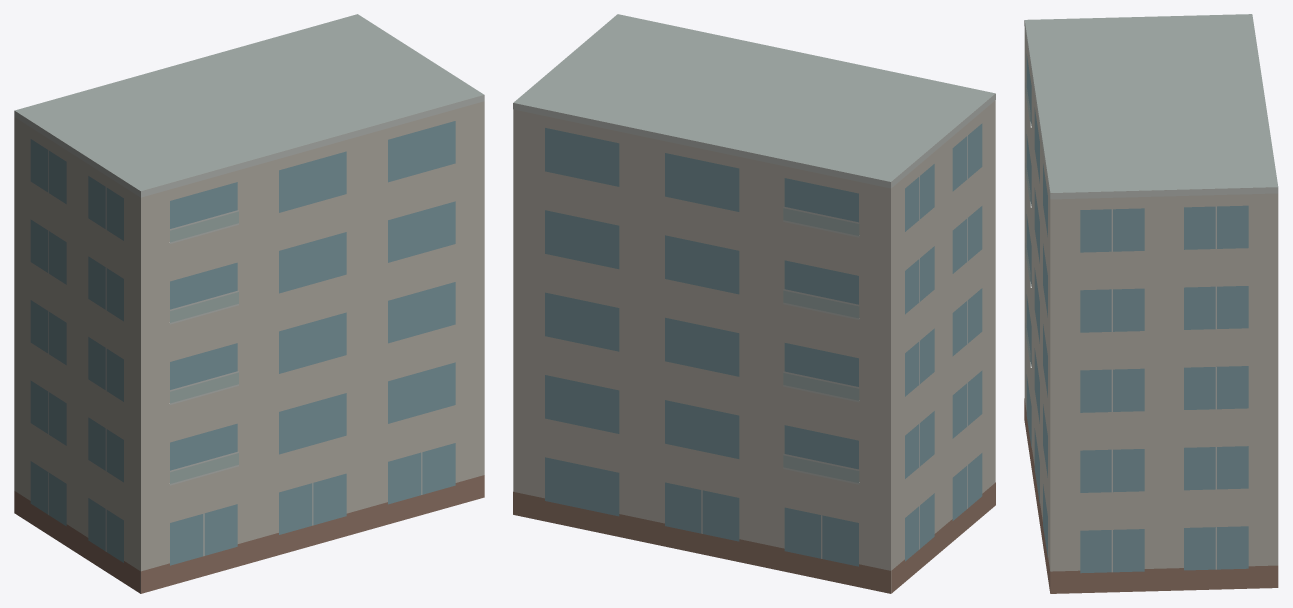
The model's file is survey-upis-32755829.glb.
3 renders of one model, left to right at view 1: azimuth 30°, elevation 25°; view 2: azimuth 150°, elevation 25°; view 3: azimuth 270°, elevation 25°, orthographic. The views are drawn at different scales.
Parts seen in each view (by area): view 1: survey-upis-32755829.tmp; view 2: survey-upis-32755829.tmp; view 3: survey-upis-32755829.tmp.
Part boxes in pixels (x1,y1,x2,y2): survey-upis-32755829.tmp: (14,14,484,593); survey-upis-32755829.tmp: (513,14,995,593); survey-upis-32755829.tmp: (1024,14,1278,593).
Bounding box in the file's own units: 14.77 × 15.4 × 8.85.
